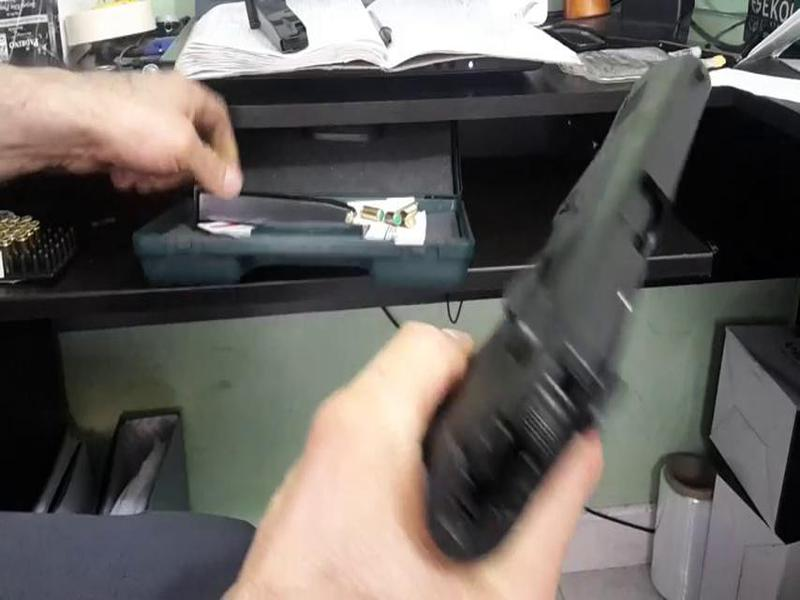Pistola: (384, 36, 725, 548)
